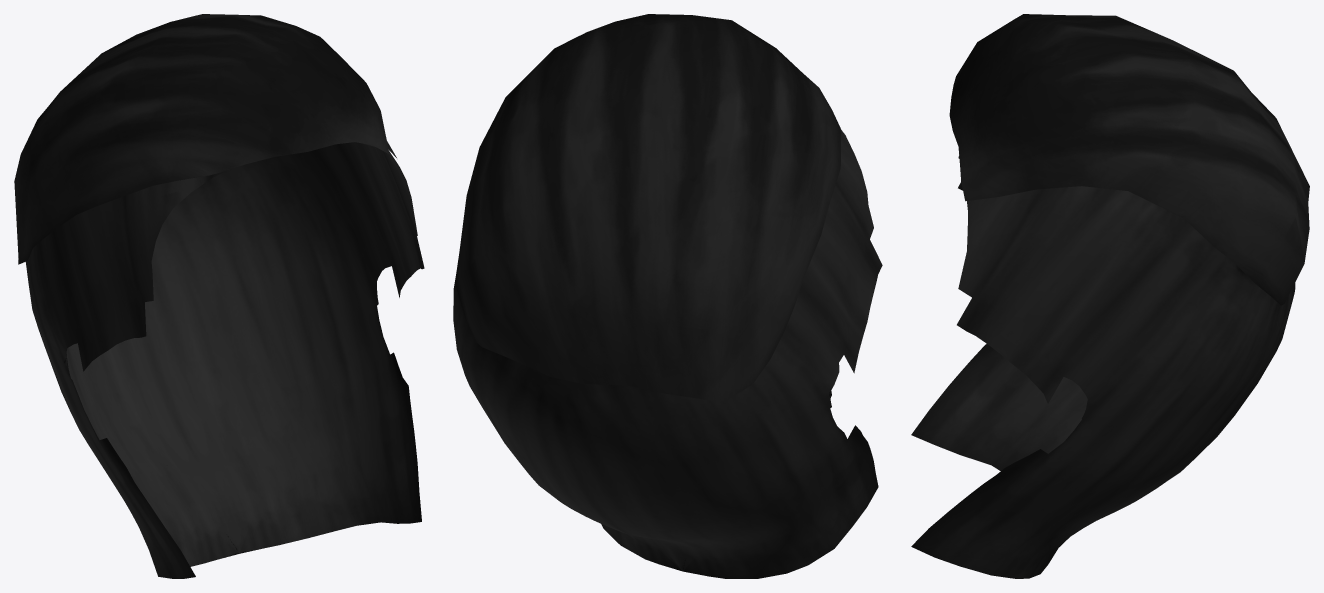
Rendered from sideparted.fbx.
3 renders of one model, left to right at view 1: azimuth 30°, elevation 25°; view 2: azimuth 150°, elevation 25°; view 3: azimuth 270°, elevation 25°, orthographic. The views are drawn at different scales.
Parts seen in each view (by area): view 1: sideparted; view 2: sideparted; view 3: sideparted.
Part boxes in pixels (x1,y1,x2,y2): sideparted: (14,14,424,578); sideparted: (453,14,882,578); sideparted: (911,14,1309,578).
Bounding box in the file's own units: 16563 × 25732 × 17799.
1 material, 1 textured.
